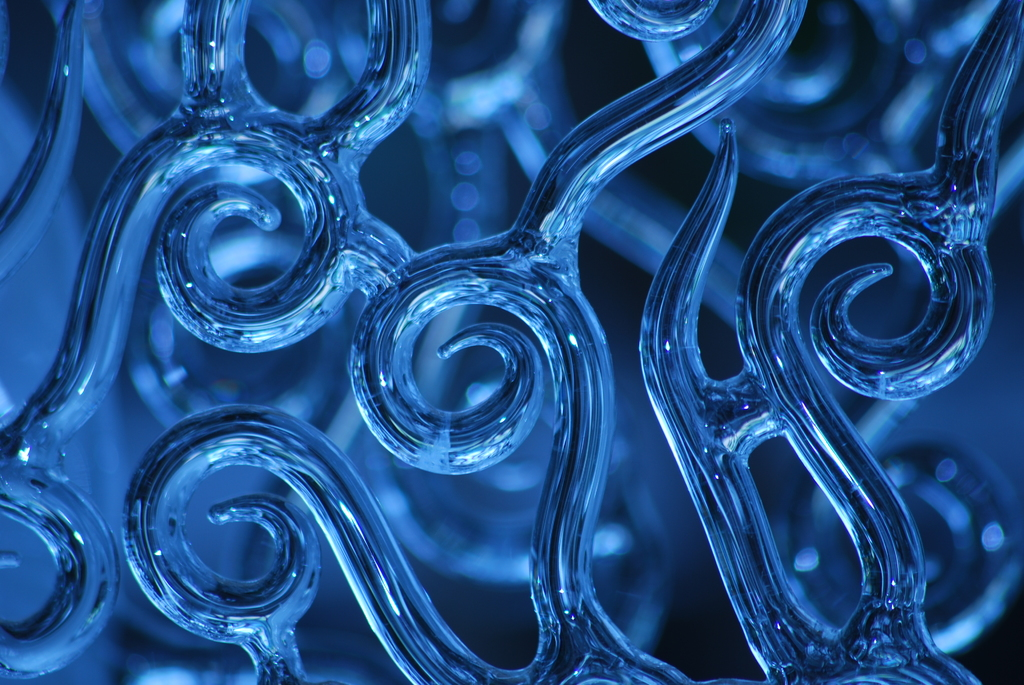person: (400, 0, 571, 249)
